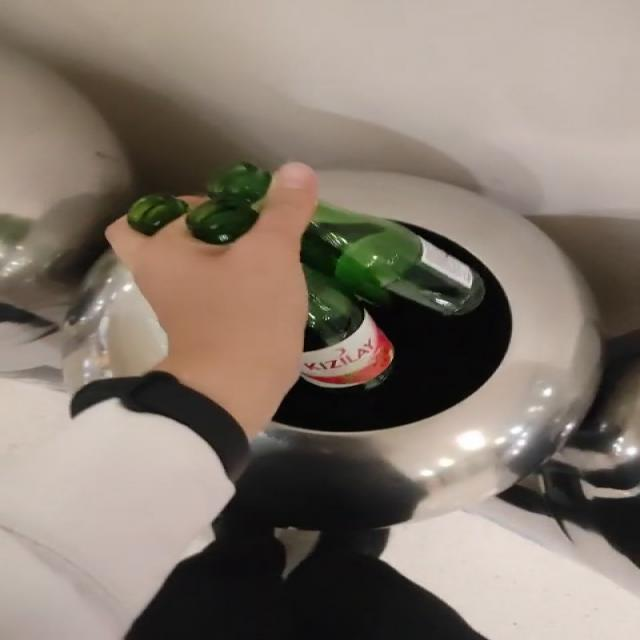glass: (300, 201, 485, 389), (185, 163, 271, 244), (128, 196, 187, 234)
